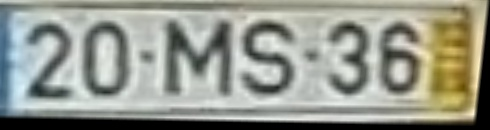0: (80, 18, 134, 102)
2: (24, 21, 76, 102)
3: (325, 17, 374, 101)
6: (377, 20, 425, 99)
M: (161, 19, 237, 99)
S: (239, 17, 300, 101)
